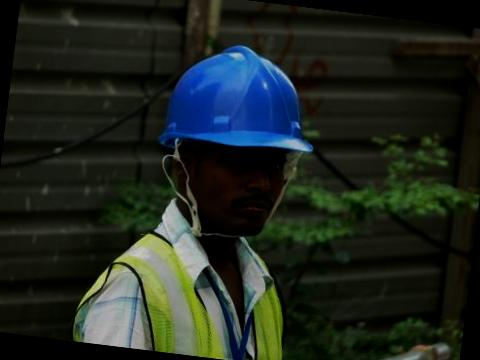helmet: (149, 27, 328, 168)
person: (76, 19, 330, 358)
